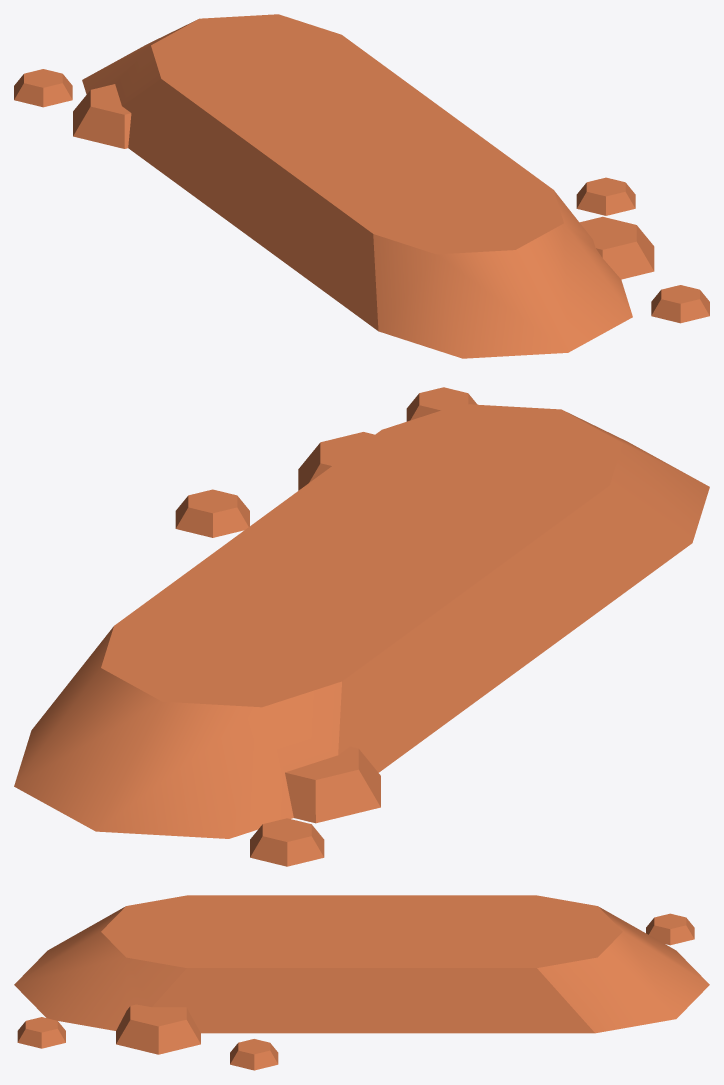
The model's file is grave.dae.
3 renders of one model, top to bottom at view 1: azimuth 30°, elevation 25°; view 2: azimuth 150°, elevation 25°; view 3: azimuth 270°, elevation 25°, orthographic. The views are drawn at different scales.
Visible parts, largest first — view 1: grave; view 2: grave; view 3: grave.
Boxes of the visible parts, bbox=[...] form: grave: bbox=[14, 14, 709, 358]; grave: bbox=[14, 387, 709, 866]; grave: bbox=[14, 895, 709, 1070].
Size of the model in its own units: 0.5731 by 0.0952 by 1.13.
